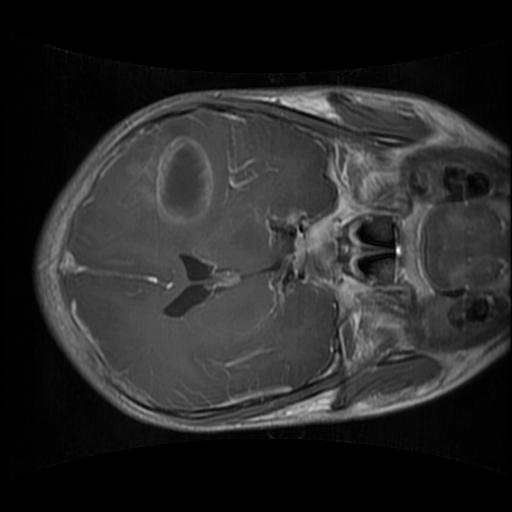glioma: (156, 134, 215, 232)
